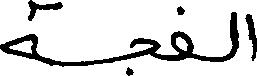X: (0, 0, 35, 64), (171, 1, 193, 65), (131, 33, 160, 75), (246, 9, 256, 65), (228, 7, 236, 64)
